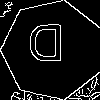D: (27, 25, 64, 70)
